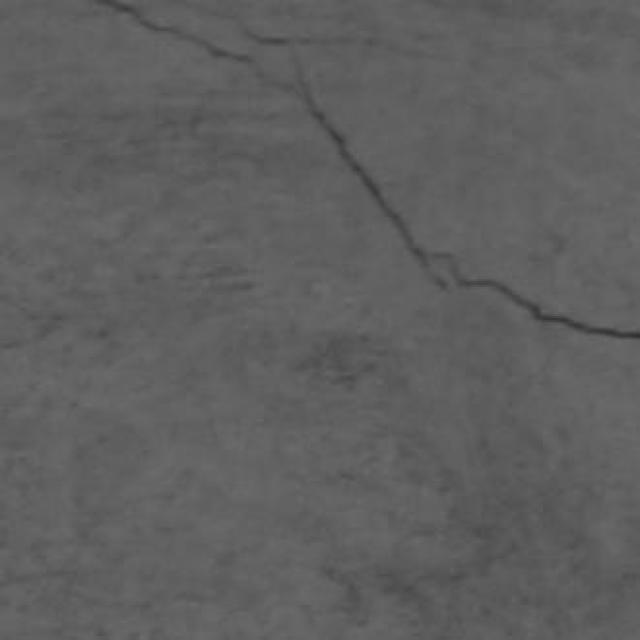crack: (94, 0, 639, 341), (293, 55, 639, 341), (94, 0, 254, 65)
